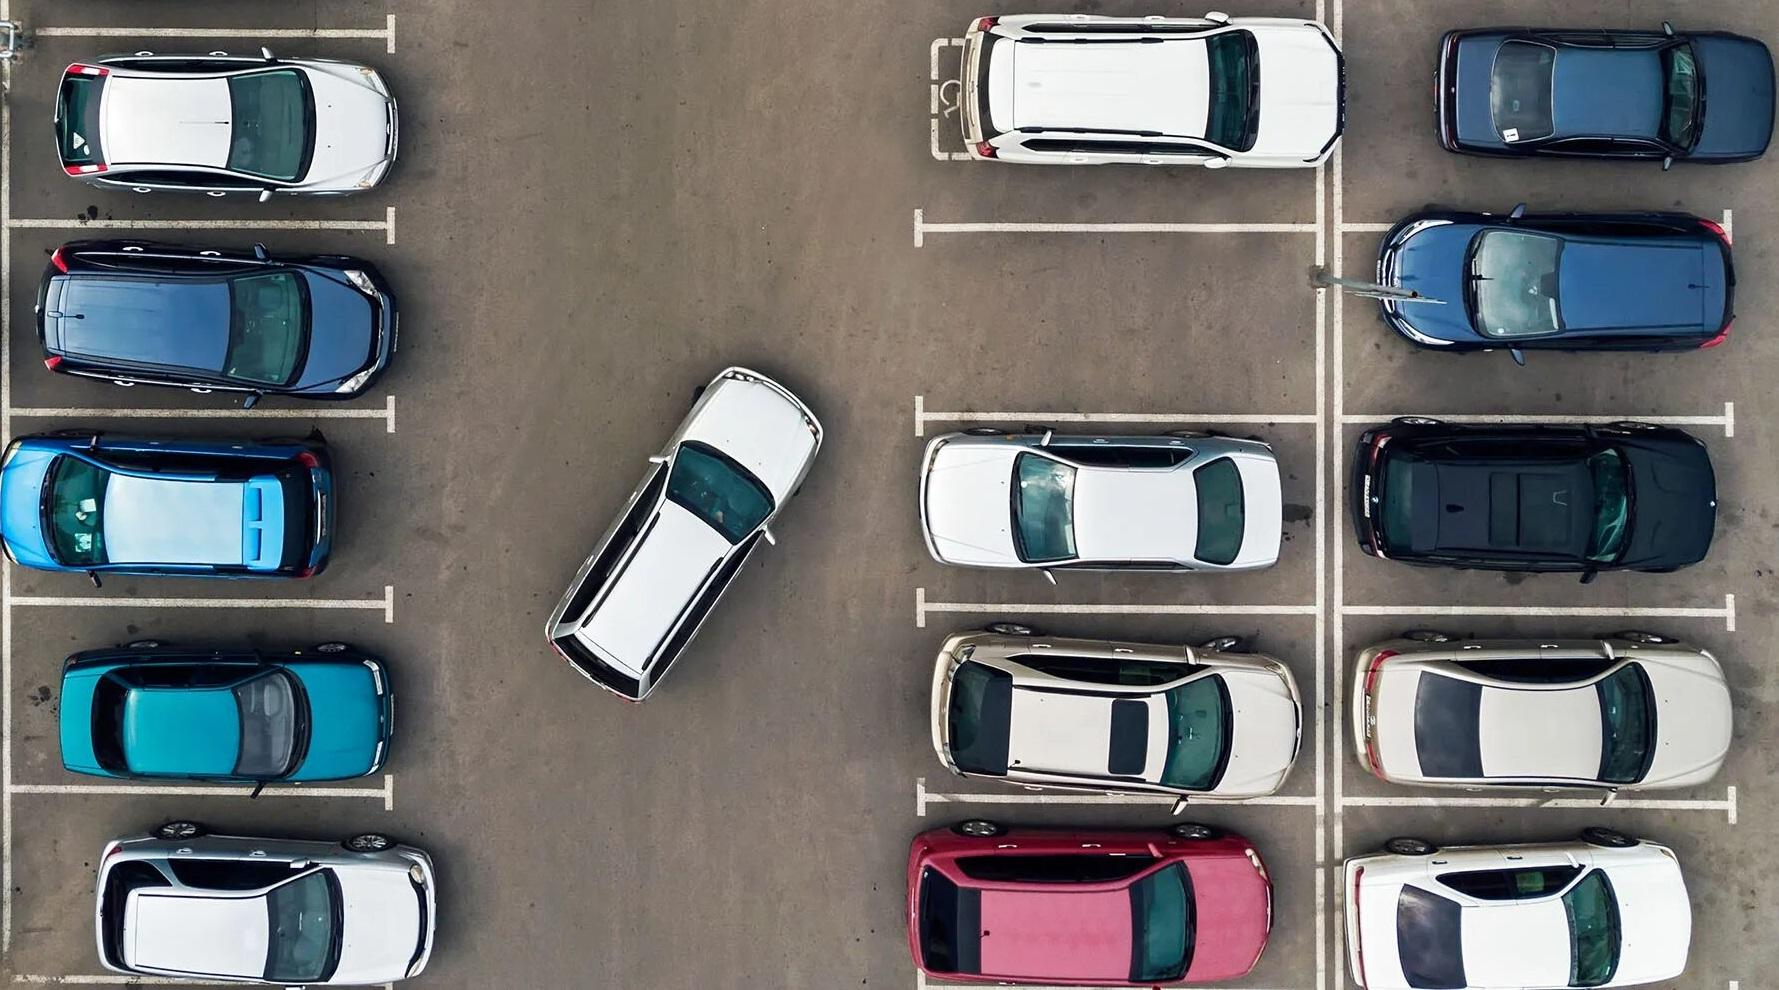occupied: (919, 416, 1320, 611), (921, 608, 1320, 802), (1339, 609, 1732, 805), (1338, 419, 1731, 612), (1337, 228, 1730, 419), (7, 789, 389, 985), (6, 30, 390, 224), (6, 413, 391, 605), (7, 602, 389, 794), (6, 225, 390, 414)
vacant: (919, 228, 1320, 418)
